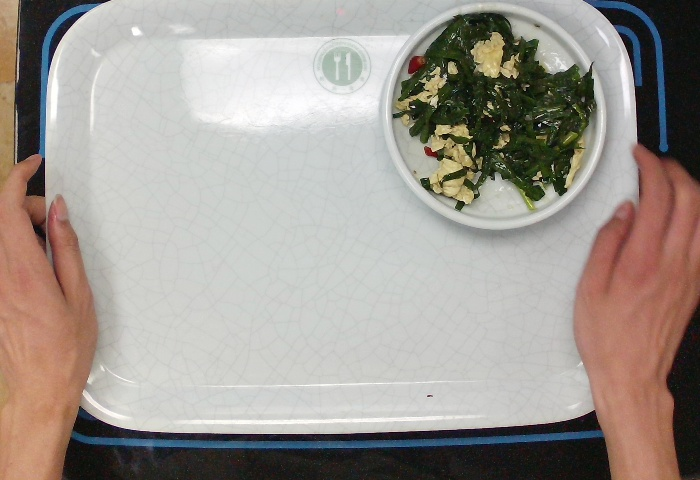JYsf-Xiao_Yuan_Pan: (377, 1, 613, 237)
